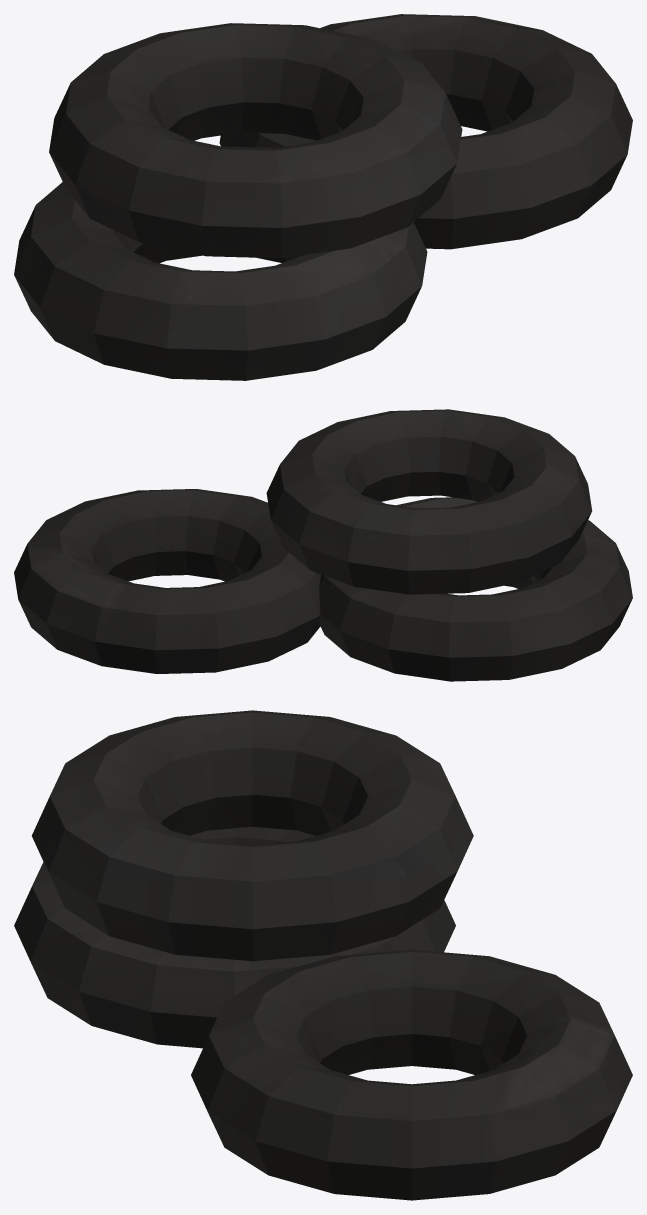
Rendered from prop-tyres.glb.
The picture shows the model from 3 angles, top to bottom: view 1: azimuth 30°, elevation 25°; view 2: azimuth 150°, elevation 25°; view 3: azimuth 270°, elevation 25°; orthographic projection. The views are drawn at different scales.
Visible parts, largest first — view 1: prop_tyres; view 2: prop_tyres; view 3: prop_tyres.
Boxes of the visible parts, box(x1,y1,x2,y2) form: prop_tyres: box(14, 14, 632, 380); prop_tyres: box(14, 409, 632, 681); prop_tyres: box(14, 710, 632, 1200).
Bounding box in the file's own units: 0.45 × 0.14 × 0.35.
1 material, 1 textured.
